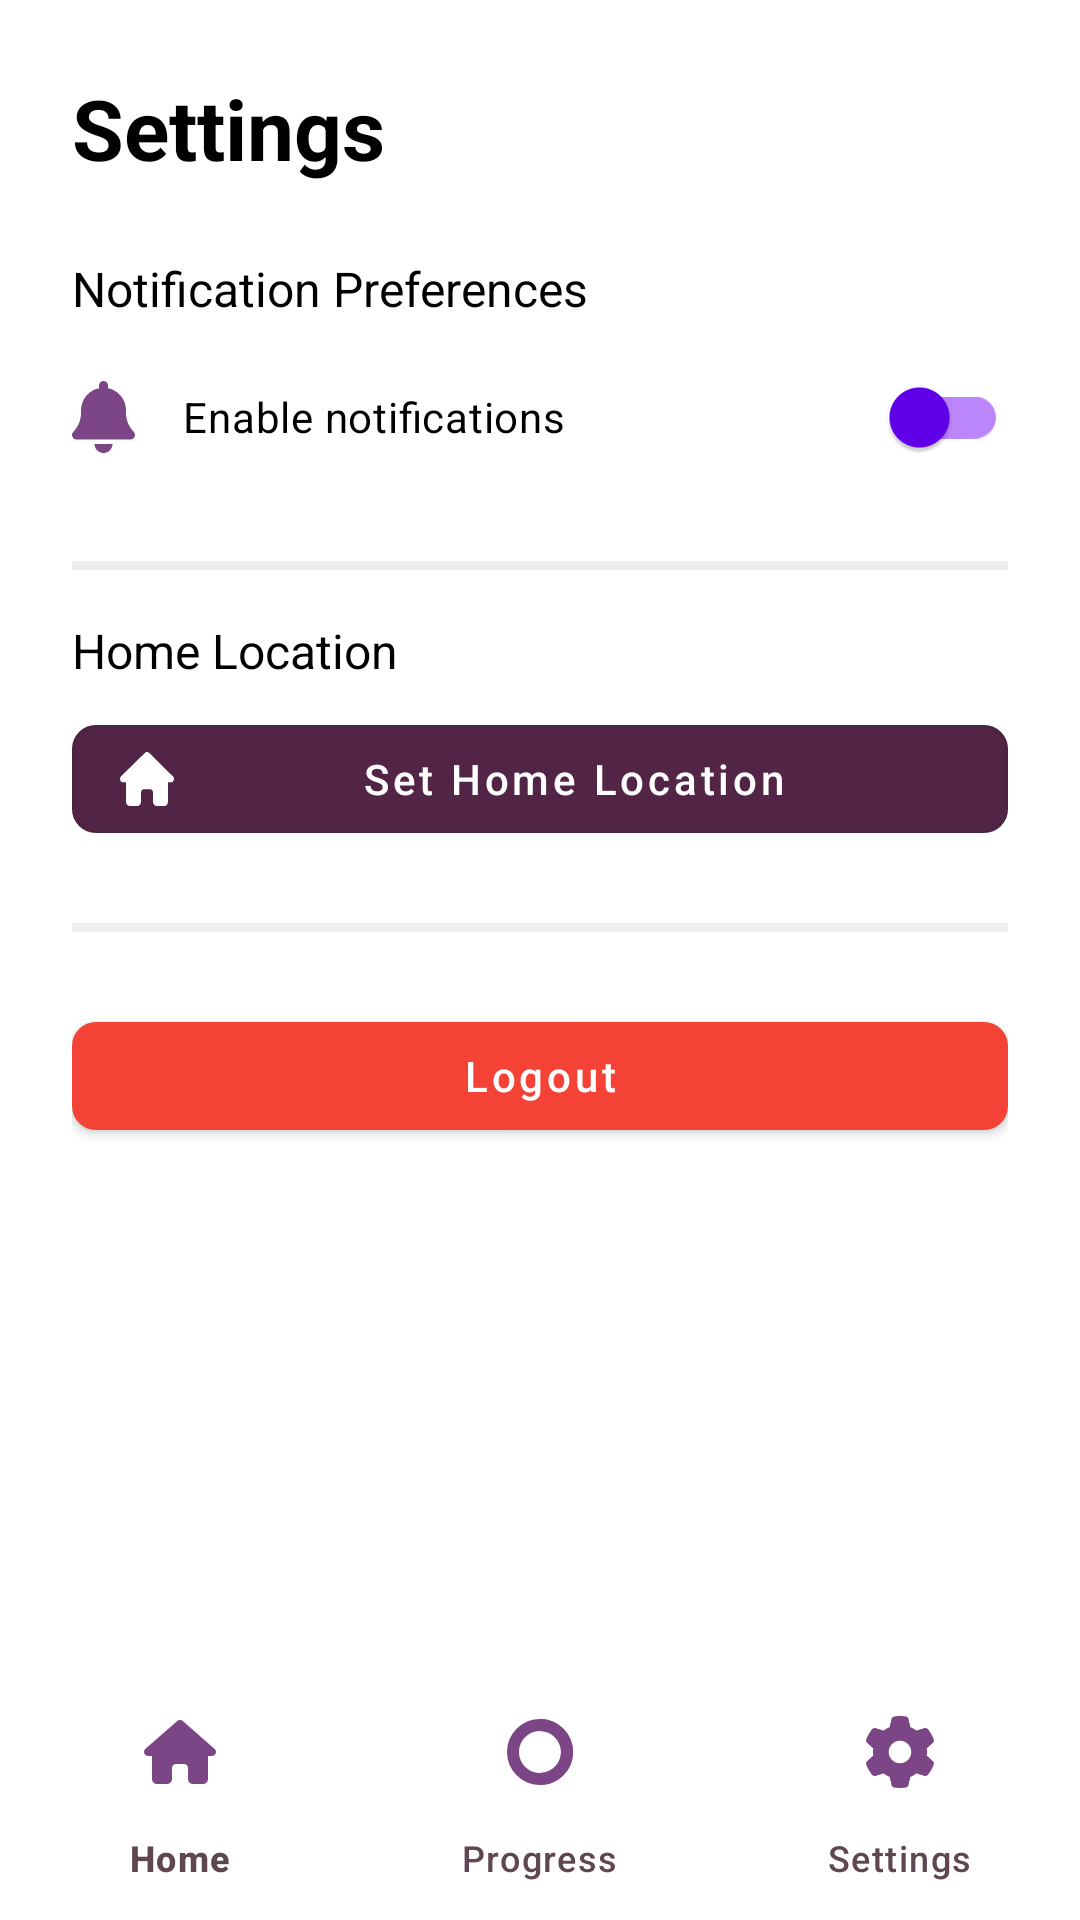

Icons on this 1080 x 1920 Android screen, each with the point to tap as (x,y):
bell: (103,417)
